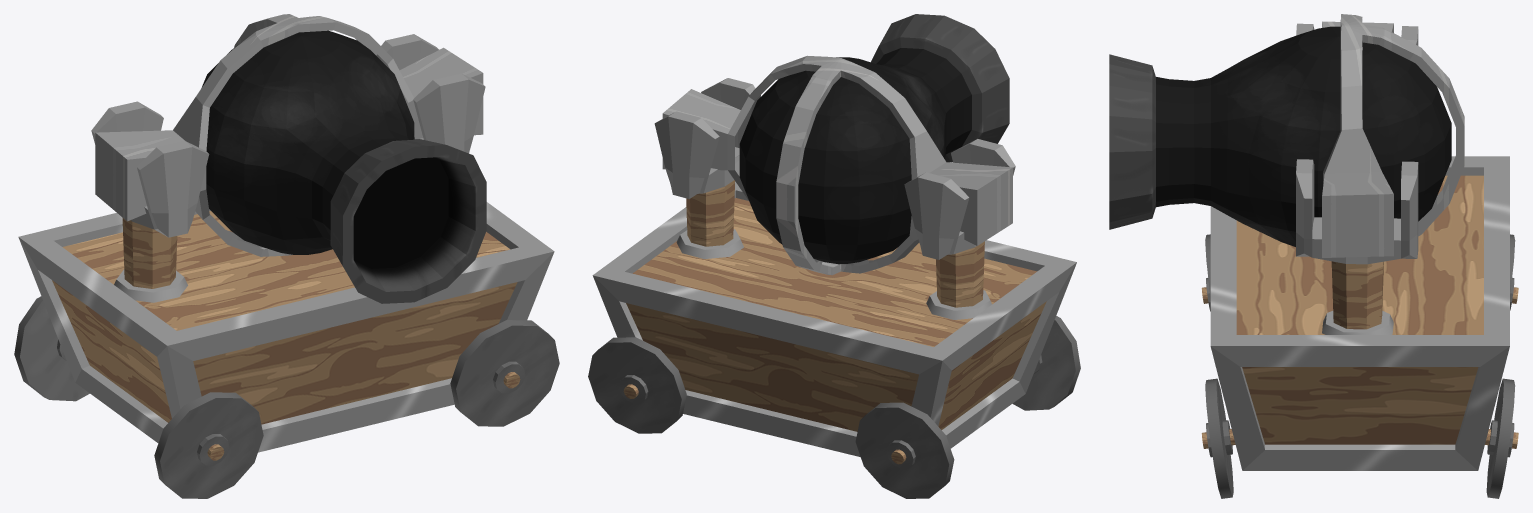
File: Canon.fbx
The picture shows the model from 3 angles, left to right: view 1: azimuth 30°, elevation 25°; view 2: azimuth 150°, elevation 25°; view 3: azimuth 270°, elevation 25°; orthographic projection. The views are drawn at different scales.
Parts seen in each view (by area): view 1: charriot-corps, Sphère046, Sphère048, Cylindre028, Cylindre024, Cylindre031, Cylindre029, Cylindre033; view 2: charriot-corps, Sphère046, Sphère048, Cylindre029, Cylindre028, Cylindre032, Cylindre033, Cylindre024; view 3: charriot-corps, Sphère046, Sphère048, Cylindre029, Cylindre032, Cylindre031, Cylindre028.
Boxes of the visible parts, x1,y1,x2,y2 form: charriot-corps: (18, 202, 554, 452); Sphère046: (202, 30, 486, 303); Sphère048: (95, 14, 483, 256); Cylindre028: (91, 101, 209, 302); Cylindre024: (154, 392, 263, 498); Cylindre031: (450, 320, 559, 426); Cylindre029: (381, 34, 485, 153); Cylindre033: (14, 296, 89, 401); charriot-corps: (592, 181, 1076, 456); Sphère046: (739, 14, 1009, 263); Sphère048: (662, 55, 1012, 275); Cylindre029: (654, 78, 755, 258); Cylindre028: (904, 139, 1015, 319); Cylindre032: (588, 337, 686, 433); Cylindre033: (855, 402, 954, 498); Cylindre024: (1012, 316, 1080, 410); charriot-corps: (1210, 156, 1509, 470); Sphère046: (1109, 26, 1451, 246); Sphère048: (1322, 14, 1464, 257); Cylindre029: (1296, 159, 1418, 334); Cylindre032: (1485, 378, 1518, 498); Cylindre031: (1201, 378, 1235, 498); Cylindre028: (1296, 23, 1418, 45).
Size of the model in its own units: 31.05 by 29.28 by 27.39.
Materials: 5 (5 with a texture image).
